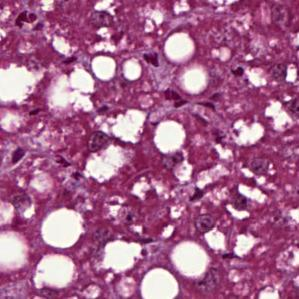ballooning: (41, 64, 98, 119), (81, 140, 135, 183)
